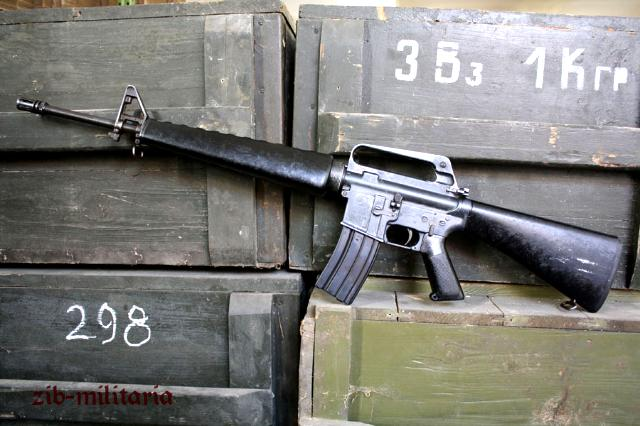rifle: (11, 82, 625, 314)
